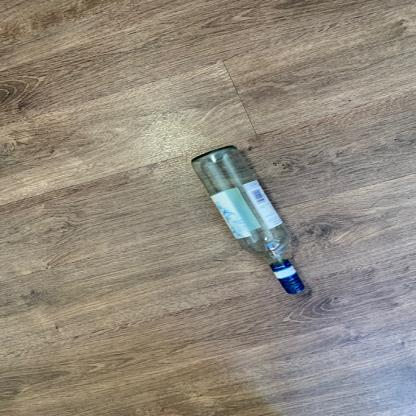trash: (190, 143, 315, 303)
